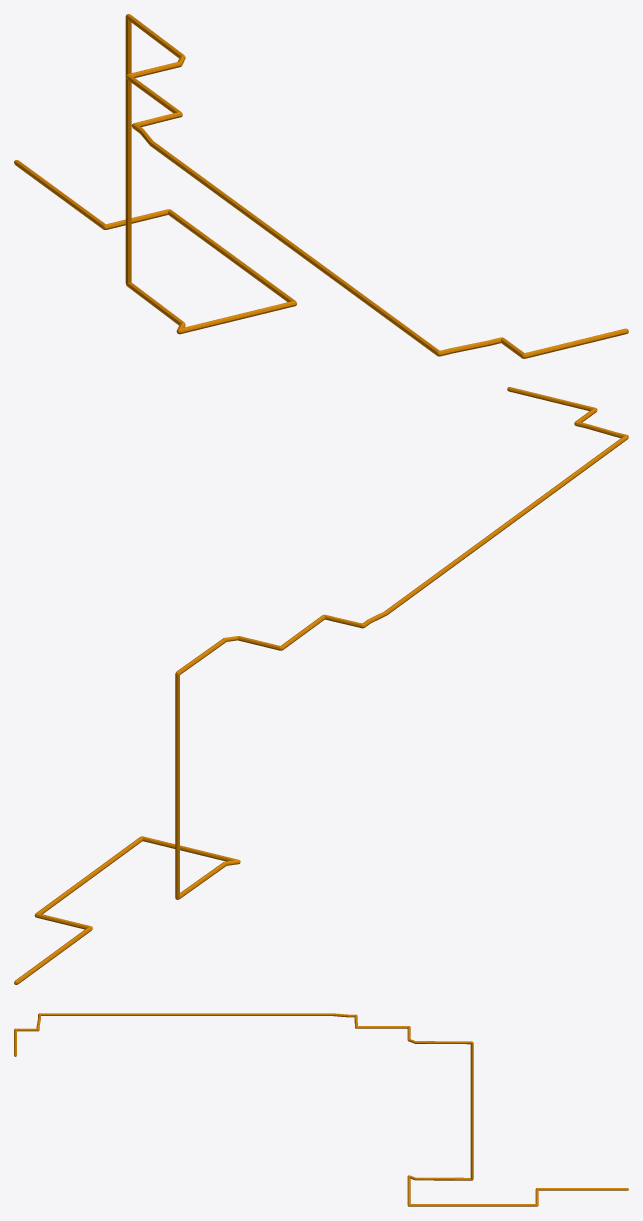
The picture shows the model from 3 angles, top to bottom: view 1: azimuth 30°, elevation 25°; view 2: azimuth 150°, elevation 25°; view 3: azimuth 270°, elevation 25°; orthographic projection. The views are drawn at different scales.
Bounding box in the file's own units: 869 × 1020 × 4083.
